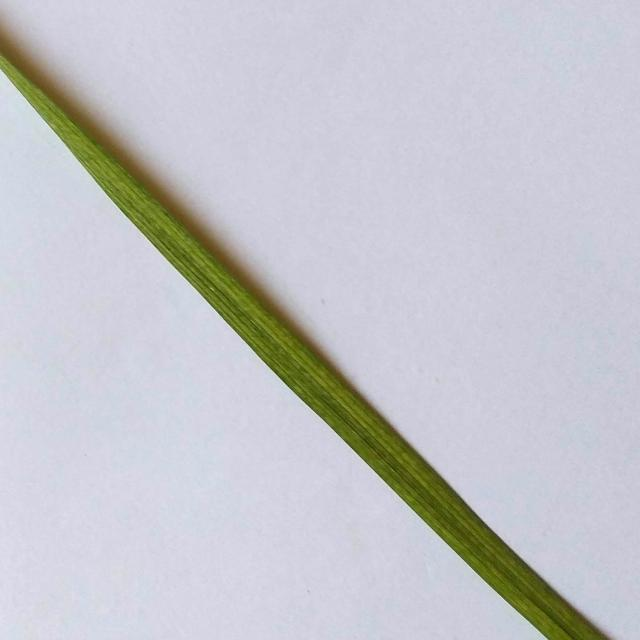Rice_Healthy: (0, 53, 608, 640)
